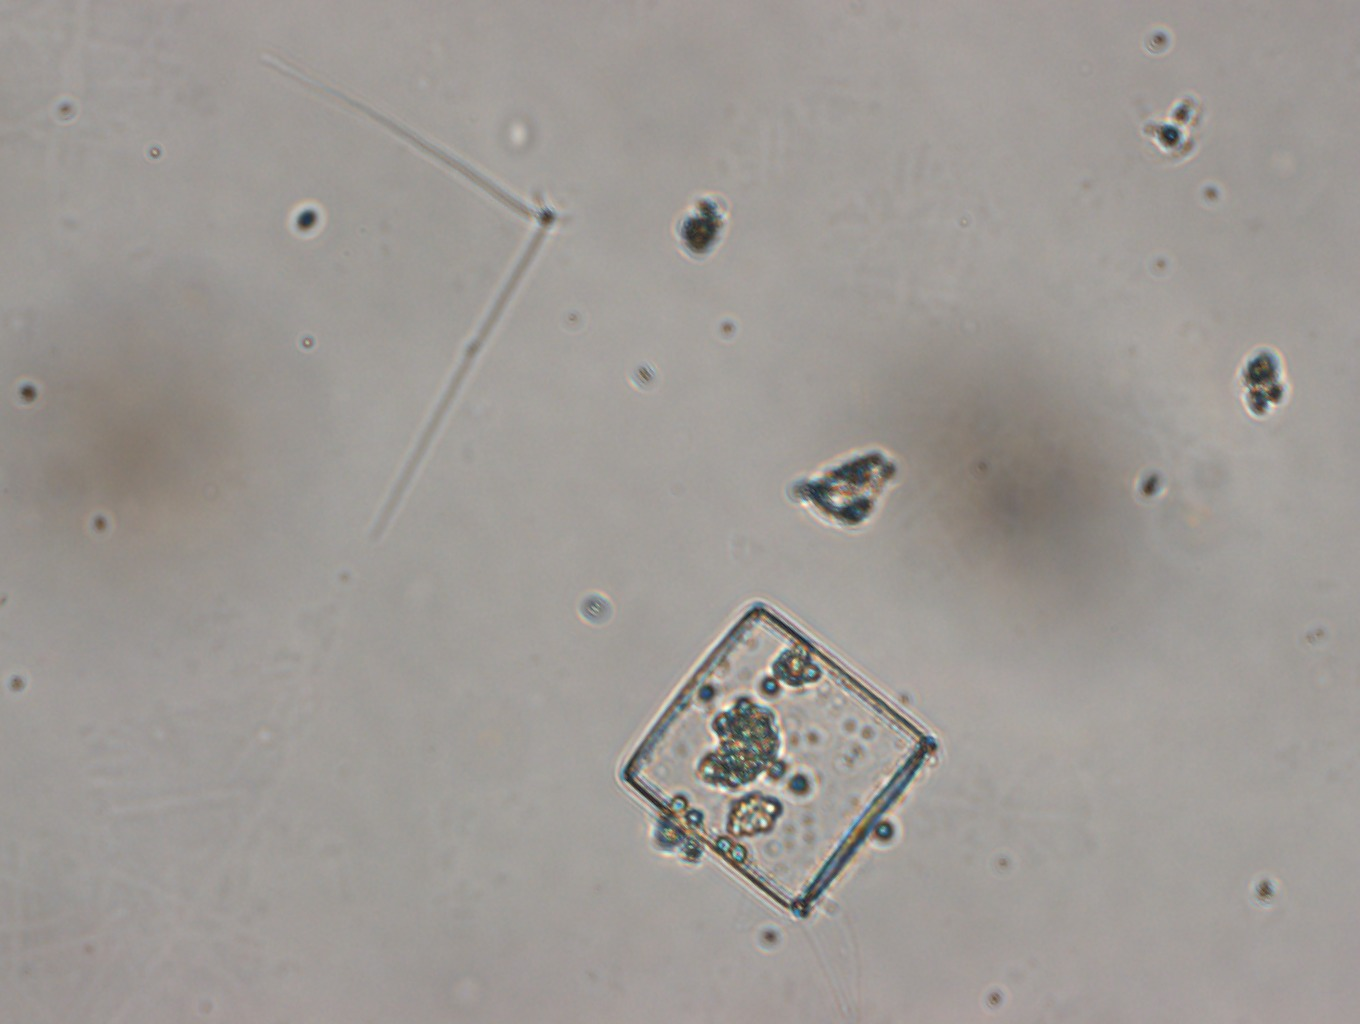guinardia flaccida: (616, 596, 936, 924)
